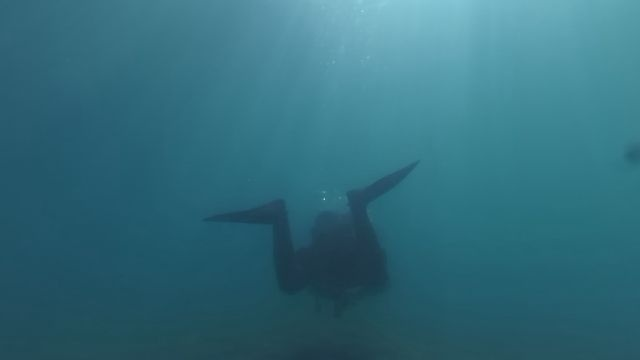Diver: (200, 148, 438, 311)
